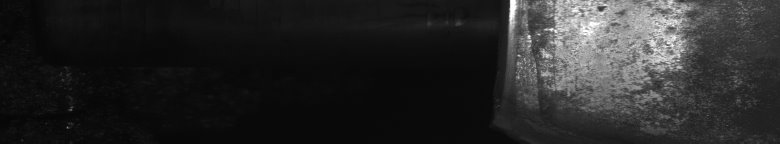kb: (497, 0, 740, 144)
